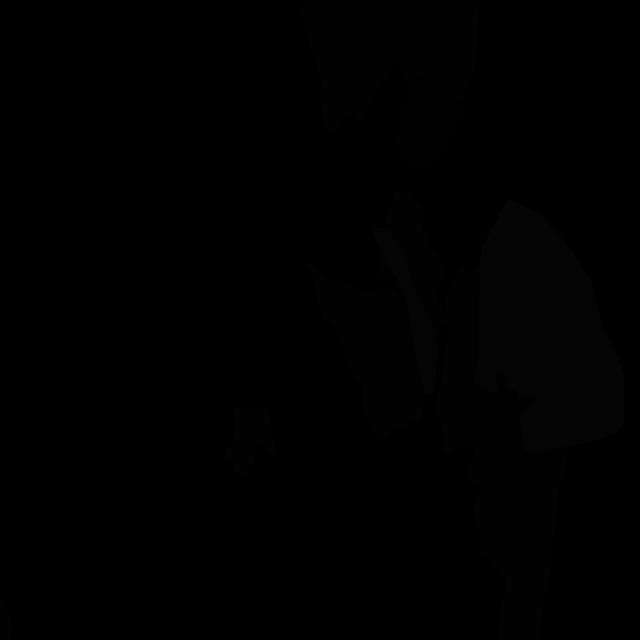cardboard: (300, 0, 480, 131), (304, 263, 424, 444), (463, 372, 541, 570), (495, 447, 568, 640), (434, 264, 491, 454), (384, 189, 446, 335), (225, 406, 277, 477), (0, 594, 12, 640), (379, 251, 392, 276), (519, 396, 534, 415)
rigid_plastic: (395, 74, 467, 172)
soft_plastic: (474, 198, 624, 452), (374, 228, 438, 396)
